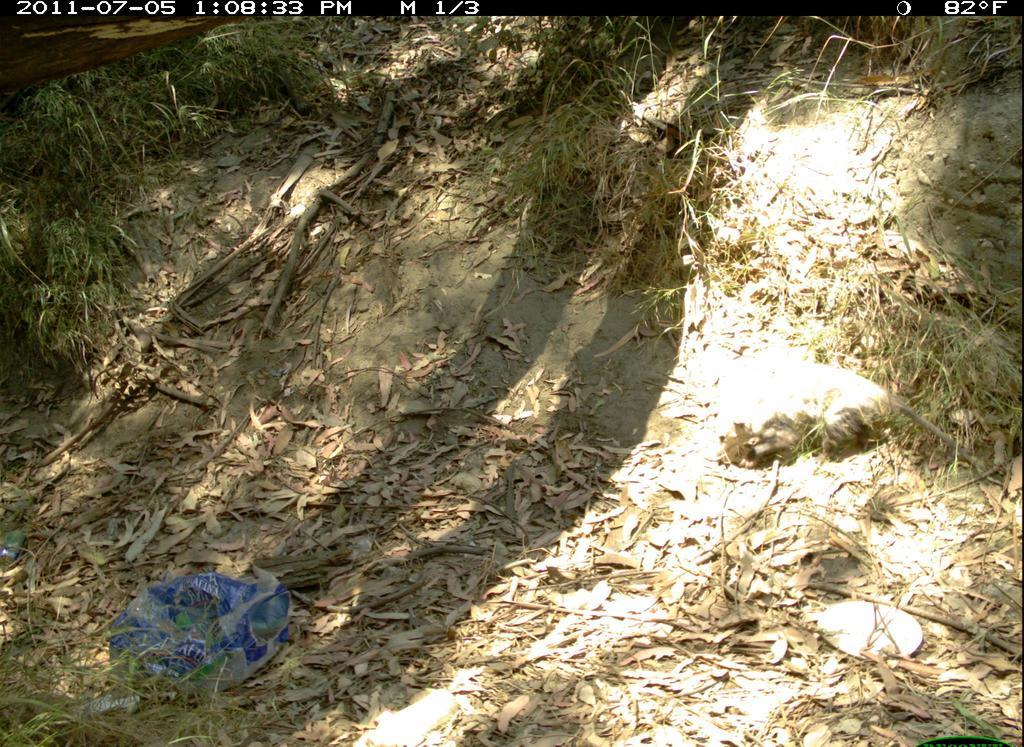opossum: (712, 359, 977, 502)
